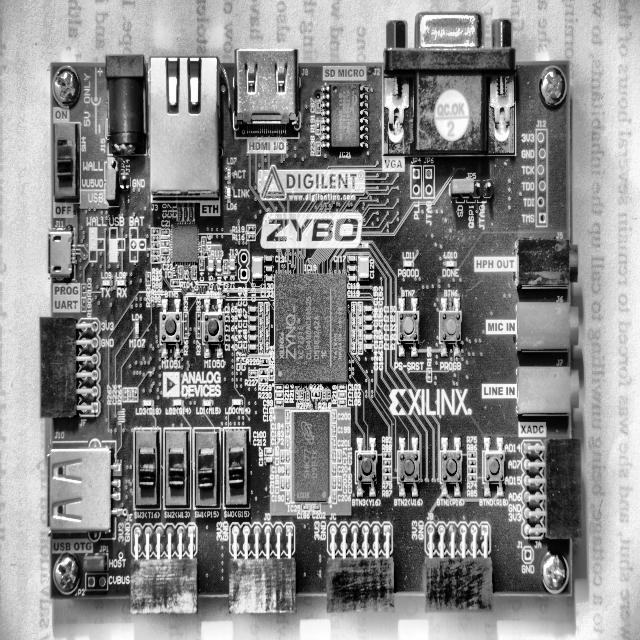PCB: (33, 13, 581, 610)
